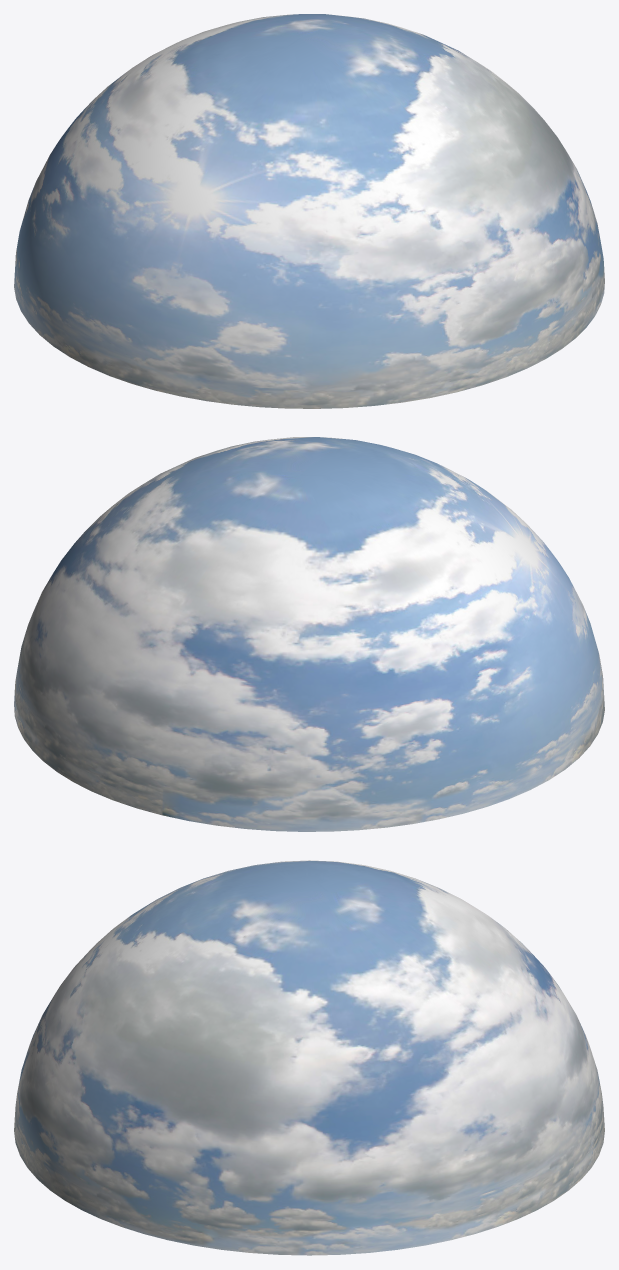
File: sky.FBX
3 renders of one model, top to bottom at view 1: azimuth 30°, elevation 25°; view 2: azimuth 150°, elevation 25°; view 3: azimuth 270°, elevation 25°, orthographic.
Visible parts, largest first — view 1: Box001; view 2: Box001; view 3: Box001.
Part boxes in pixels (left/top/right/bottom): Box001: left=14, top=14, right=604, bottom=408; Box001: left=14, top=437, right=604, bottom=831; Box001: left=14, top=860, right=604, bottom=1255.
Bounding box in the file's own units: 220 × 98.5 × 220.
